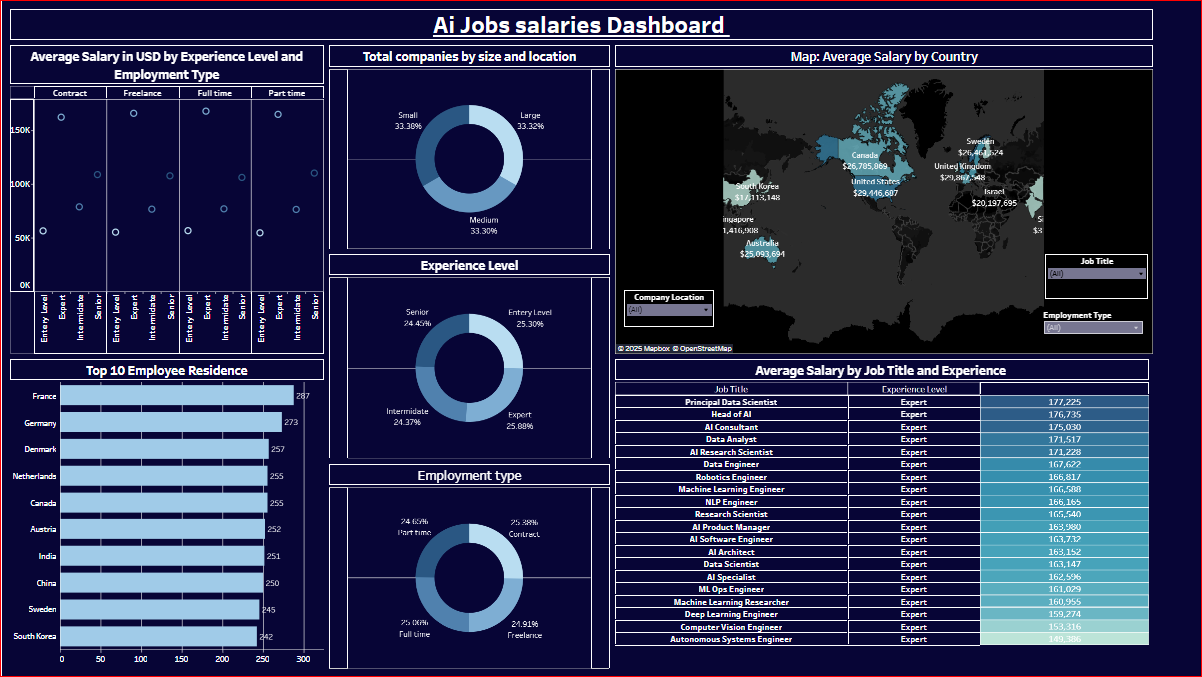

The page's visual inventory and layout, read from the dashboard file:
{"tool":"tableau","page":{"name":"Data Science Jobs salaries Dashboard ","canvas":[1920,1080],"ordinal":0},"visuals":[{"type":"title","box":[8,8,1838,47]},{"type":"worksheet","title":"Average Salary in USD by Experience Level and Employment Type","mark":"Shape","rows":["salary_usd"],"cols":["employment_type","experience_level"],"box":[8,55,511.3,508.4]},{"type":"worksheet","title":"Total companies by size and location","mark":"Pie","rows":["Calculation_1600466779130003457","Calculation_1600466779130109955"],"box":[519.3,55,457.7,338.3]},{"type":"worksheet","title":"Map: Average Salary by Country","mark":"Automatic","box":[977,55,869,508.5]},{"type":"worksheet","title":"Experience Level","mark":"Pie","rows":["Calculation_1600466779130003457","Calculation_1600466779130109955"],"box":[519.3,393.3,457.7,339.3]},{"type":"filter","title":"Average Salary by Job Title and Experience ","param":"[federated.0b1pimp1aypw0113snm6l03jldq9].[none:job_title:nk]","box":[1669,404,165,72]},{"type":"filter","title":"Average Salary by Job Title and Experience ","param":"[federated.0b1pimp1aypw0113snm6l03jldq9].[none:company_location:nk]","box":[995,462,144,59]},{"type":"filter","title":"Employment type","param":"[federated.0b1pimp1aypw0113snm6l03jldq9].[none:employment_type:nk]","box":[1666,492,160,55]},{"type":"worksheet","title":"Top 10 Employee Residence","mark":"Automatic","rows":["employee_residence"],"cols":["employee_residence"],"box":[8,563.4,511.3,508.6]},{"type":"worksheet","title":"Average Salary by Job Title and Experience ","mark":"Square","rows":["job_title","experience_level"],"box":[977,563.5,869,508.5]},{"type":"worksheet","title":"Employment type","mark":"Pie","rows":["Calculation_1600466779130003457","Calculation_1600466779130109955"],"box":[519.3,732.7,457.7,339.3]}]}

Visuals, with their boxes in screenshot pixels (x1, y1, x2, y2), scaled from the page's 1920x1080 canvas onto the 1202x677 screenshot:
title: <region>5, 5, 1156, 34</region>
"Average Salary in USD by Experience Level and Employment Type" worksheet (Shape marks): <region>5, 34, 325, 353</region>
"Total companies by size and location" worksheet (Pie marks): <region>325, 34, 612, 247</region>
"Map: Average Salary by Country" worksheet: <region>612, 34, 1156, 353</region>
"Experience Level" worksheet (Pie marks): <region>325, 247, 612, 459</region>
"Average Salary by Job Title and Experience " filter: <region>1045, 253, 1148, 298</region>
"Average Salary by Job Title and Experience " filter: <region>623, 290, 713, 327</region>
"Employment type" filter: <region>1043, 308, 1143, 343</region>
"Top 10 Employee Residence" worksheet: <region>5, 353, 325, 672</region>
"Average Salary by Job Title and Experience " worksheet (Square marks): <region>612, 353, 1156, 672</region>
"Employment type" worksheet (Pie marks): <region>325, 459, 612, 672</region>
